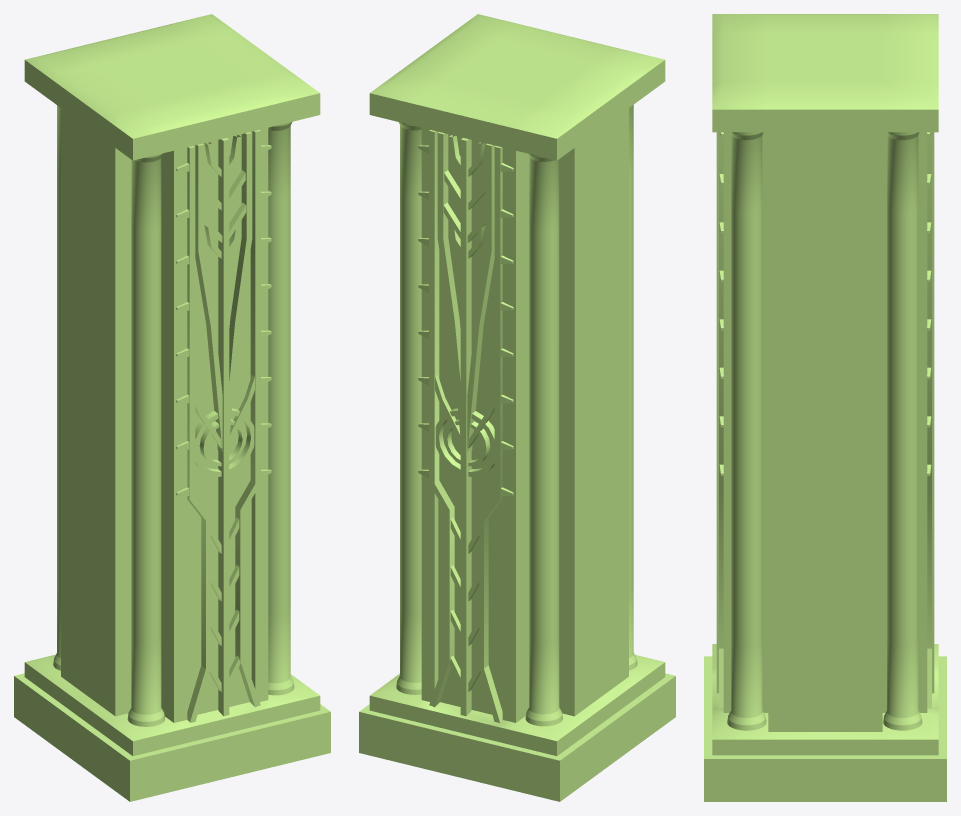
The model's file is SM_Fortress_D_001.FBX.
The picture shows the model from 3 angles, left to right: view 1: azimuth 30°, elevation 25°; view 2: azimuth 150°, elevation 25°; view 3: azimuth 270°, elevation 25°; orthographic projection. The views are drawn at different scales.
Parts seen in each view (by area): view 1: SM_Fortress_D_001; view 2: SM_Fortress_D_001; view 3: SM_Fortress_D_001.
Boxes of the visible parts, box(x1,y1,x2,y2) form: SM_Fortress_D_001: box(14, 14, 330, 801); SM_Fortress_D_001: box(359, 14, 675, 801); SM_Fortress_D_001: box(704, 14, 946, 801).
Bounding box in the file's own units: 180 × 566 × 180.
